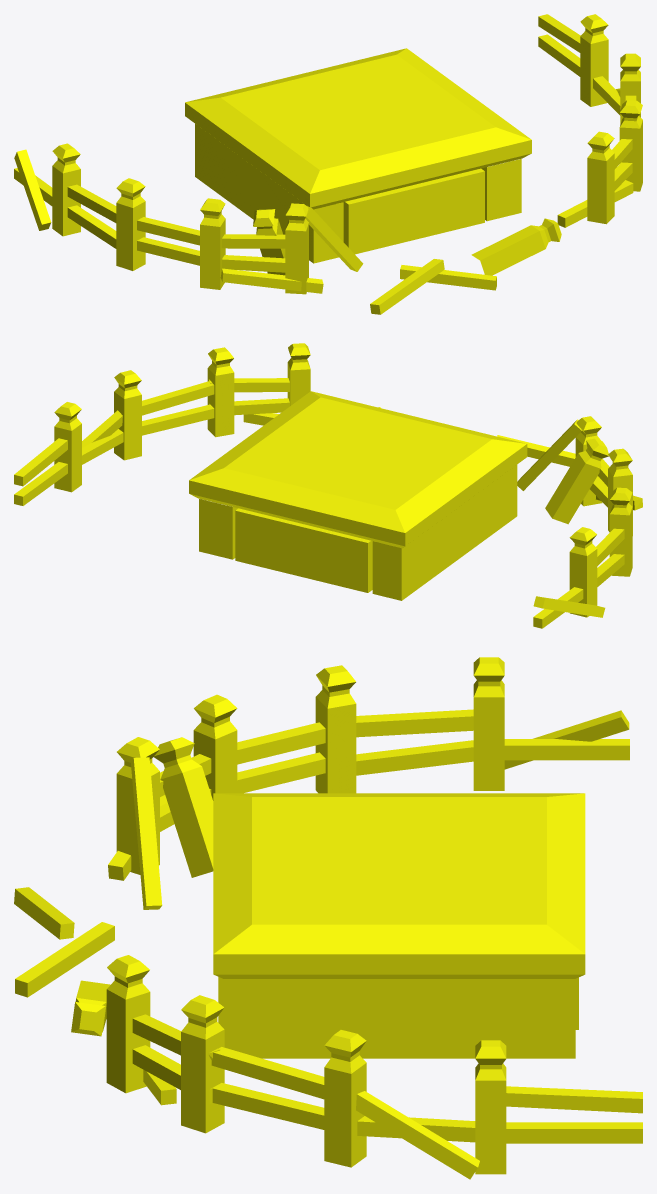
Rendered from 4st_table_001.glb.
The picture shows the model from 3 angles, top to bottom: view 1: azimuth 30°, elevation 25°; view 2: azimuth 150°, elevation 25°; view 3: azimuth 270°, elevation 25°; orthographic projection. The views are drawn at different scales.
Visible parts, largest first — view 1: 2st_table_001; view 2: 2st_table_001; view 3: 2st_table_001.
Part boxes in pixels (bbox=[...]): 2st_table_001: bbox=[14, 14, 642, 314]; 2st_table_001: bbox=[14, 343, 642, 628]; 2st_table_001: bbox=[14, 657, 642, 1179].
Bounding box in the file's own units: 12.73 × 2.14 × 8.14.
2 materials, 2 textured.
